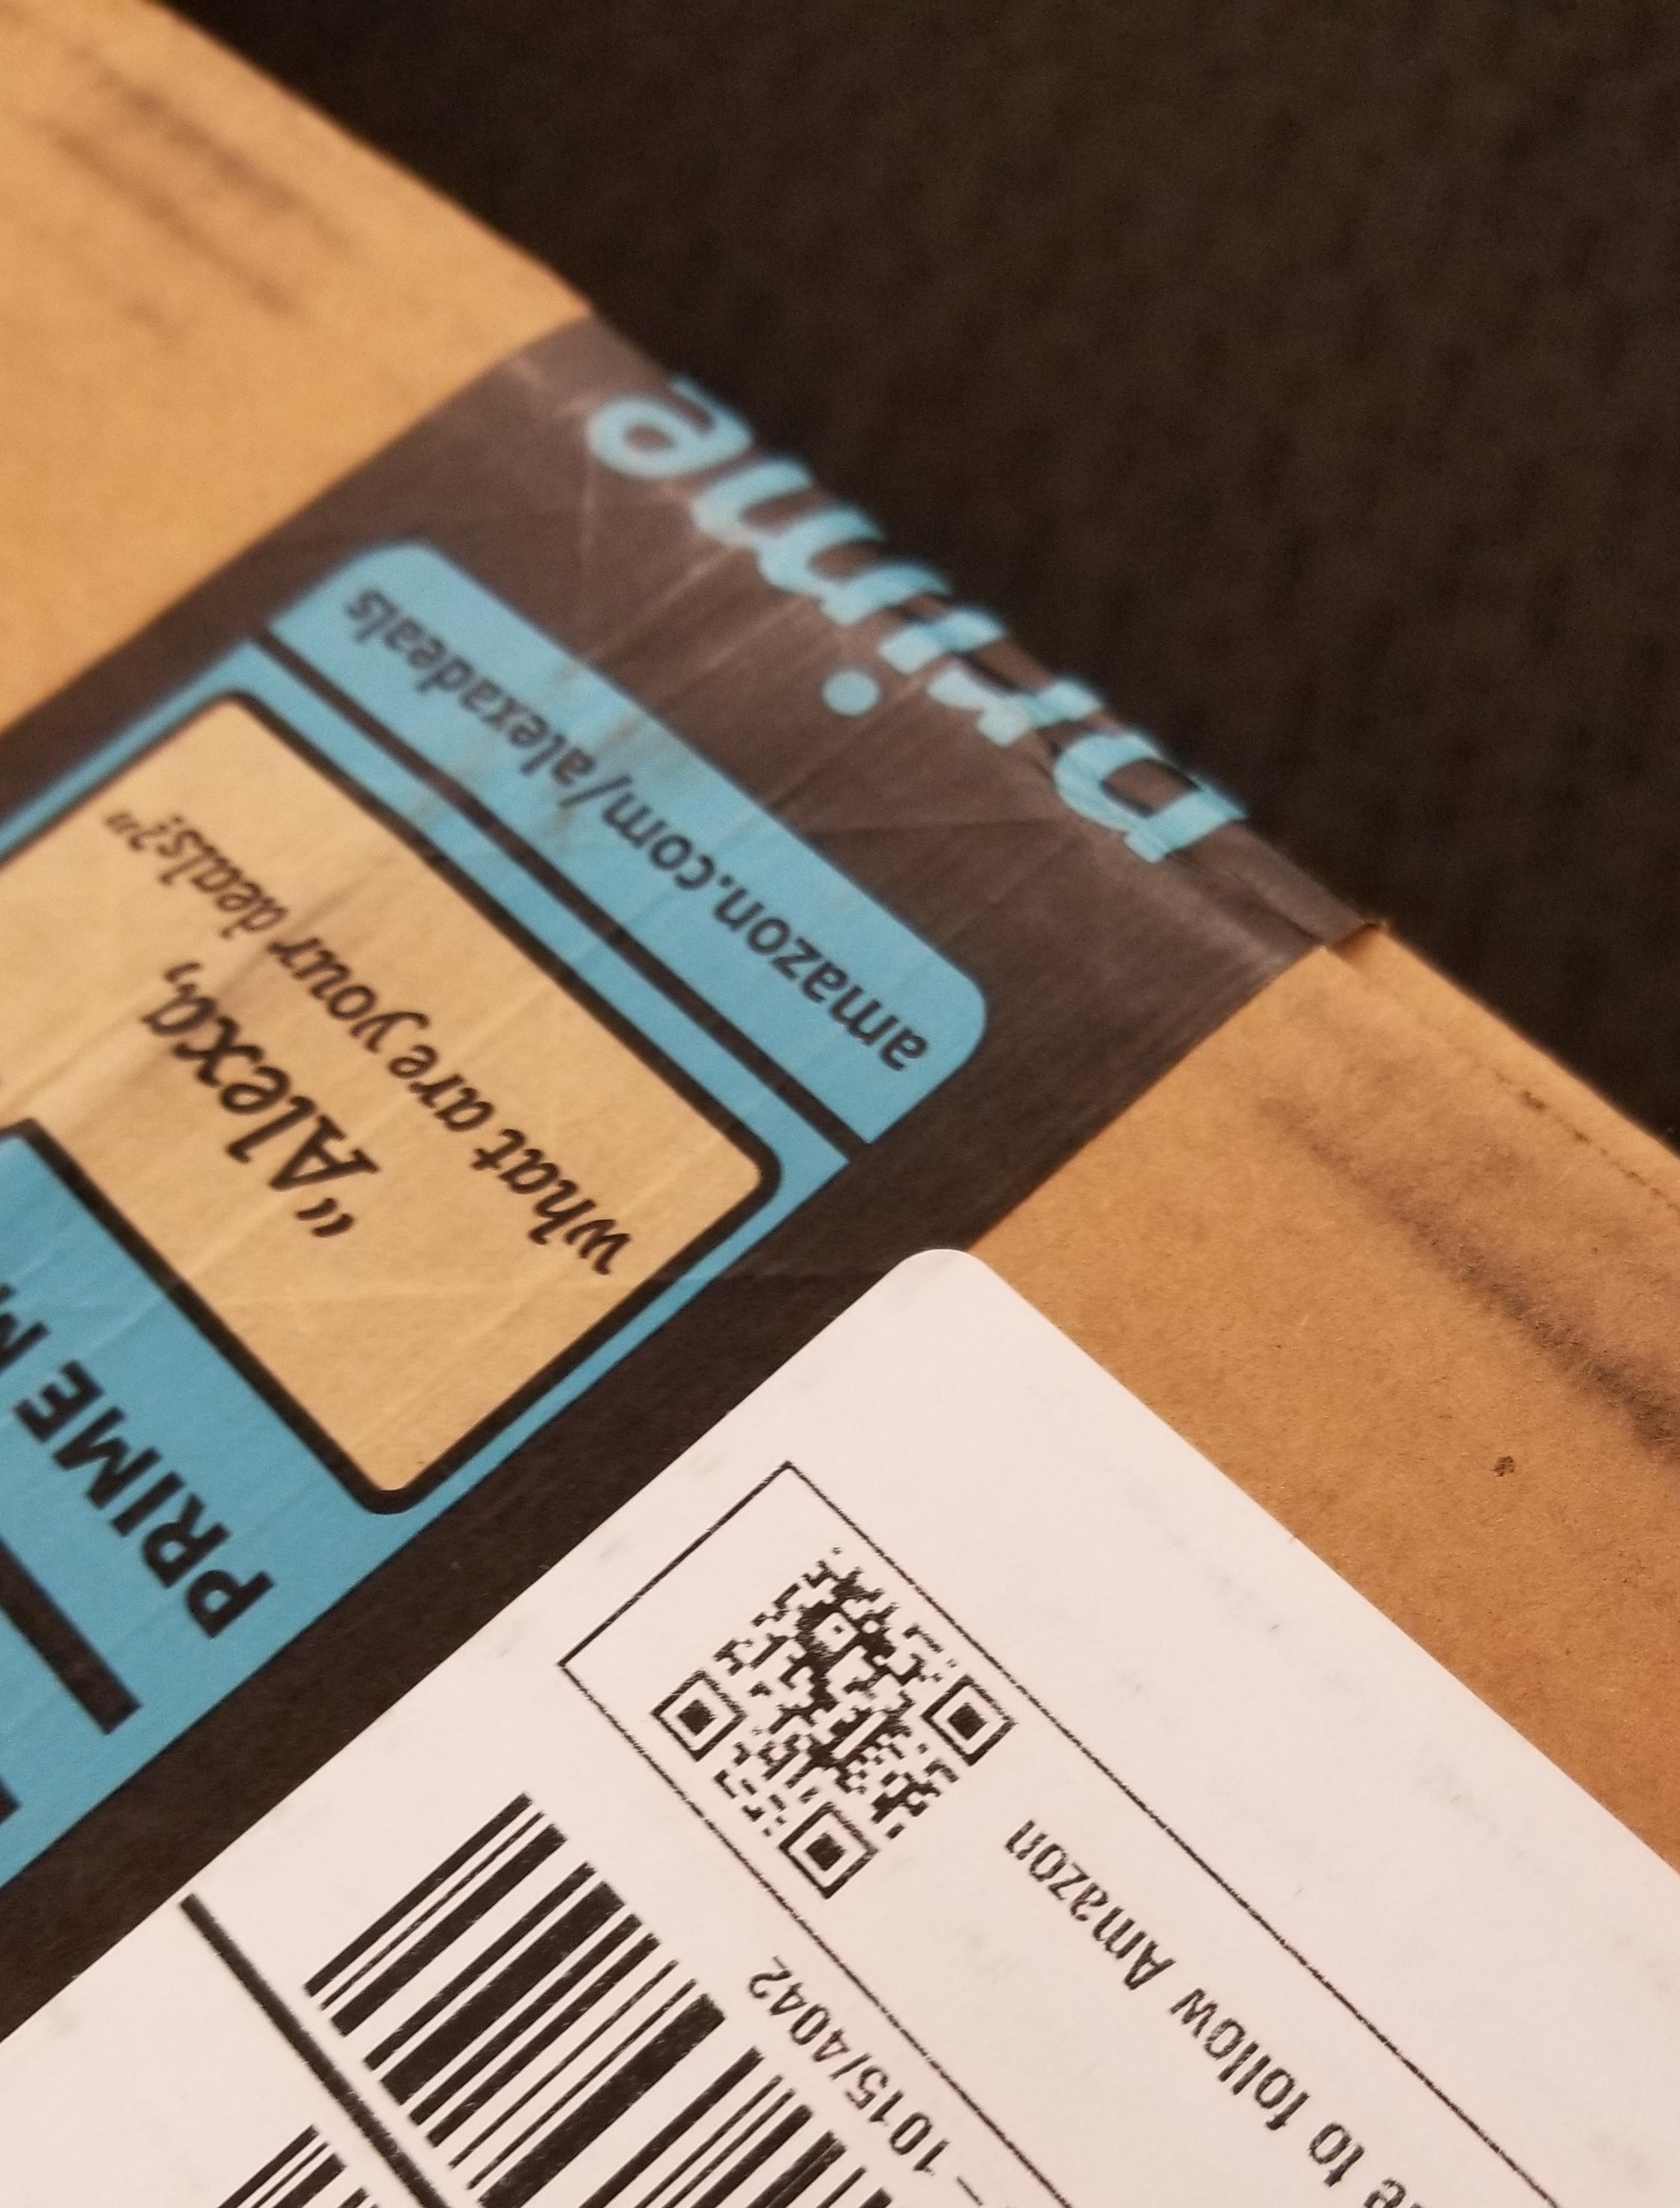QR_CODE: (634, 1514, 1032, 1917)
